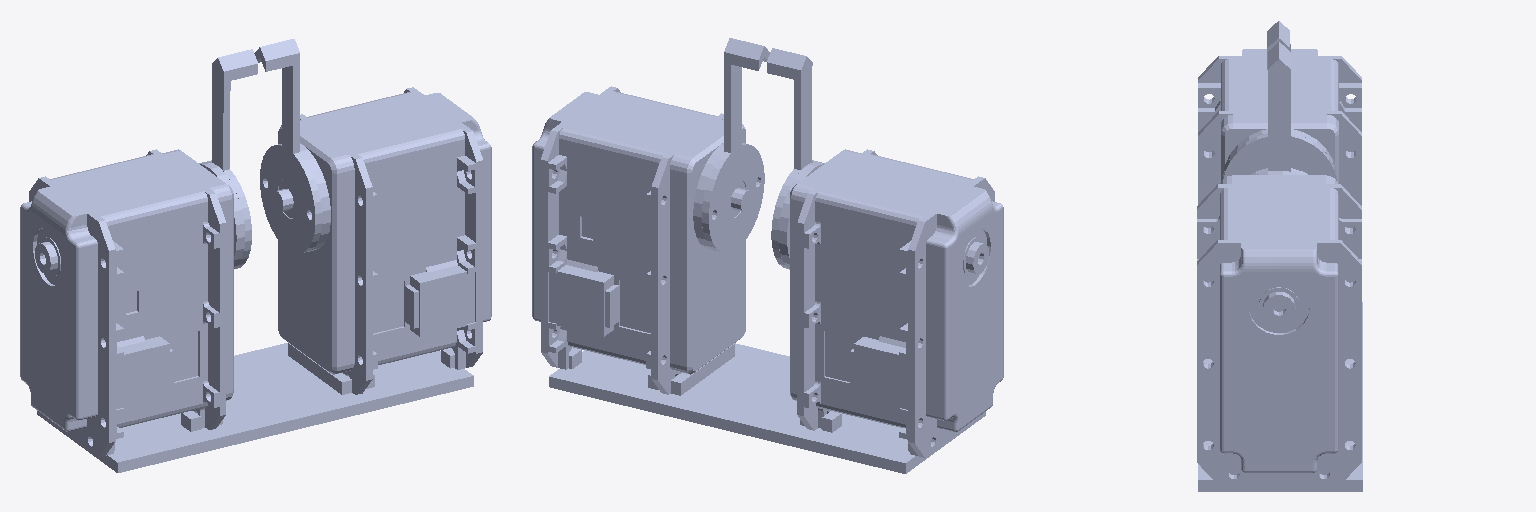
The robot description file, URDF, robot "duo_joint":
<?xml version="1.0" encoding="utf-8"?>
<!-- This URDF was automatically created by SolidWorks to URDF Exporter! Originally created by Stephen Brawner (brawner@gmail.com) 
     Commit Version: 1.6.0-1-g15f4949  Build Version: 1.6.7594.29634
     For more information, please see http://wiki.ros.org/sw_urdf_exporter -->
<robot
  name="duo_joint">
  <link
    name="base_link">
    <inertial>
      <origin
        xyz="0.0515 0.035275 -0.019941"
        rpy="0 0 0" />
      <mass
        value="0.6" />
      <inertia
        ixx="6.7077E-05"
        ixy="3.1649E-21"
        ixz="-4.6137E-09"
        iyy="5.9663E-05"
        iyz="-6.0754E-22"
        izz="9.448E-05" />
    </inertial>
    <visual>
      <origin
        xyz="0 0 0"
        rpy="0 0 0" />
      <geometry>
        <mesh
          filename="package://duo_joint/meshes/base_link.STL" />
      </geometry>
      <material
        name="">
        <color
          rgba="0.79216 0.81961 0.93333 1" />
      </material>
    </visual>
    <collision>
      <origin
        xyz="0 0 0"
        rpy="0 0 0" />
      <geometry>
        <mesh
          filename="package://duo_joint/meshes/base_link.STL" />
      </geometry>
    </collision>
  </link>
  <link
    name="Lpin_Link">
    <inertial>
      <origin
        xyz="0.0097536 -0.008551 8.5823E-09"
        rpy="0 0 0" />
      <mass
        value="0.02" />
      <inertia
        ixx="6.2061E-08"
        ixy="-2.1269E-08"
        ixz="2.0011E-11"
        iyy="4.8413E-07"
        iyz="5.8259E-15"
        izz="4.3061E-07" />
    </inertial>
    <visual>
      <origin
        xyz="0 0 0"
        rpy="0 0 0" />
      <geometry>
        <mesh
          filename="package://duo_joint/meshes/Lpin_Link.STL" />
      </geometry>
      <material
        name="">
        <color
          rgba="0.79216 0.81961 0.93333 1" />
      </material>
    </visual>
    <collision>
      <origin
        xyz="0 0 0"
        rpy="0 0 0" />
      <geometry>
        <mesh
          filename="package://duo_joint/meshes/Lpin_Link.STL" />
      </geometry>
    </collision>
  </link>
  <joint
    name="Lpin_joint"
    type="revolute">
    <origin
      xyz="0.0526 0.019825 0.0536"
      rpy="1.5708 -1.5708 0" />
    <parent
      link="base_link" />
    <child
      link="Lpin_Link" />
    <axis
      xyz="0 1 0" />
    <limit
      lower="0"
      upper="0"
      effort="0"
      velocity="0" />
  </joint>
  <link
    name="Rpin_Link">
    <inertial>
      <origin
        xyz="0.0097536 0.001449 8.5823E-09"
        rpy="0 0 0" />
      <mass
        value="0.02" />
      <inertia
        ixx="6.2061E-08"
        ixy="-2.1269E-08"
        ixz="2.0011E-11"
        iyy="4.8413E-07"
        iyz="5.8259E-15"
        izz="4.3061E-07" />
    </inertial>
    <visual>
      <origin
        xyz="0 0 0"
        rpy="0 0 0" />
      <geometry>
        <mesh
          filename="package://duo_joint/meshes/Rpin_Link.STL" />
      </geometry>
      <material
        name="">
        <color
          rgba="0.79216 0.81961 0.93333 1" />
      </material>
    </visual>
    <collision>
      <origin
        xyz="0 0 0"
        rpy="0 0 0" />
      <geometry>
        <mesh
          filename="package://duo_joint/meshes/Rpin_Link.STL" />
      </geometry>
    </collision>
  </link>
  <joint
    name="Rpin_joint"
    type="revolute">
    <origin
      xyz="0.0404 0.020025 0.0536"
      rpy="0 -1.5634 -1.5708" />
    <parent
      link="base_link" />
    <child
      link="Rpin_Link" />
    <axis
      xyz="0 1 0" />
    <limit
      lower="0"
      upper="0"
      effort="0"
      velocity="0" />
  </joint>

  <ros2_control name="DuoJointHardware" type="system">
    <hardware>
      <plugin>dynamixel_hardware_interface/DynamixelHardware</plugin>
      <param name="number_of_joints">1</param>
      <param name="number_of_transmissions">2</param>
      <param name="port_name">/dev/ttyUSB0</param>
      <param name="baud_rate">1000000</param>
      <param name="dynamixel_model_folder">/param/dxl_model</param>
      <param name="disable_torque_at_init">true</param>
      <!-- joints x transmissions: joint position = average of both motors -->
      <param name="transmission_to_joint_matrix">0.5, -0.5</param>
      <!-- transmissions x joints: both motors receive the joint command (use -1 for a mirrored motor) -->
      <param name="joint_to_transmission_matrix">1, -1</param>
    </hardware>

    <gpio name="motor_dual_a">
      <param name="type">dxl</param>
      <param name="ID">22</param>
      <param name="Operating Mode">3</param>
      <param name="Current Limit">400</param>
      <param name="Profile Velocity">40</param>
      <param name="Profile Acceleration">20</param>
      <param name="Torque Enable">1</param>
      <command_interface name="Goal Position"/>
      <state_interface name="Present Position"/>
      <state_interface name="Present Velocity"/>
      <state_interface name="Present Current"/>
    </gpio>

    <gpio name="motor_dual_b">
      <param name="type">dxl</param>
      <param name="ID">21</param>
      <param name="Operating Mode">3</param>
      <param name="Current Limit">400</param>
      <param name="Profile Velocity">40</param>
      <param name="Profile Acceleration">20</param>
      <param name="Torque Enable">1</param>
      <command_interface name="Goal Position"/>
      <state_interface name="Present Position"/>
      <state_interface name="Present Velocity"/>
      <state_interface name="Present Current"/>
    </gpio>

    <joint name="dual_joint">
      <command_interface name="position"/>
      <state_interface name="position"/>
      <state_interface name="velocity"/>
    </joint>
  </ros2_control>
</robot>

--- Facts derived from the render (not from the file) ---
3 views of the same robot in one strip: view 1: azimuth 30°, elevation 25°; view 2: azimuth 150°, elevation 25°; view 3: azimuth 270°, elevation 25° (orthographic).
Robot: duo_joint — 3 links, 2 joints (2 revolute); root link base_link; default pose: all joints at 0.
Visible links, largest first — view 1: base_link, Lpin_Link, Rpin_Link; view 2: base_link, Lpin_Link, Rpin_Link; view 3: base_link, Rpin_Link, Lpin_Link.
Boxes of the visible links, <box> form: base_link: <box>20,87,491,472</box>; Lpin_Link: <box>254,39,321,253</box>; Rpin_Link: <box>207,49,257,268</box>; base_link: <box>532,86,1003,473</box>; Lpin_Link: <box>702,38,769,253</box>; Rpin_Link: <box>767,48,817,269</box>; base_link: <box>1197,49,1362,491</box>; Rpin_Link: <box>1223,21,1336,180</box>; Lpin_Link: <box>1250,42,1307,174</box>.
Size in the robot's own frame: 0.1232 by 0.0406 by 0.0976 metres.
3 mesh visuals loaded from 3 distinct referenced files (3 binary STL).
